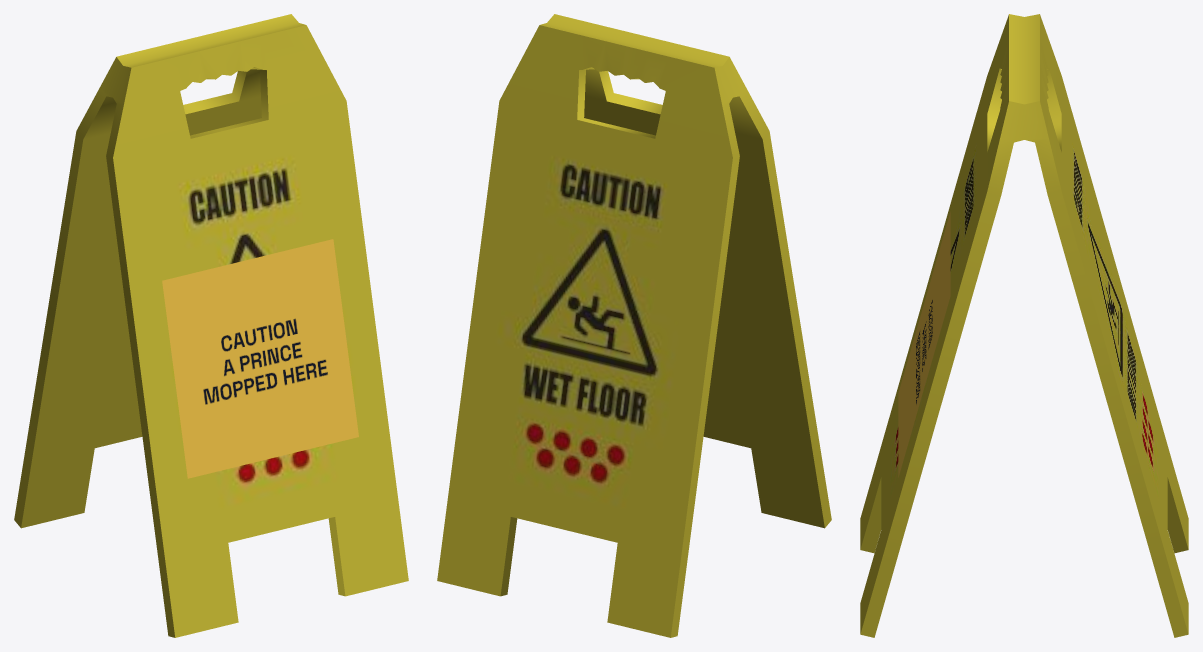
File: nyb_mcmlow_wetfloor.glb
3 views of the same model, side by side, from view 1: azimuth 30°, elevation 25°; view 2: azimuth 150°, elevation 25°; view 3: azimuth 270°, elevation 25° (orthographic).
Visible parts, largest first — view 1: WetFloorSign_01, stk_lbl_1402e0f69c.png; view 2: WetFloorSign_01; view 3: WetFloorSign_01, stk_lbl_1402e0f69c.png.
Part boxes in pixels (box(x1,y1,x2,y2)): WetFloorSign_01: box(14, 14, 408, 637); stk_lbl_1402e0f69c.png: box(162, 239, 358, 478); WetFloorSign_01: box(437, 14, 831, 637); WetFloorSign_01: box(860, 14, 1188, 637); stk_lbl_1402e0f69c.png: box(898, 211, 950, 477).
Size of the model in its own units: 0.3001 by 0.6295 by 0.3585.
Materials: 2 (2 with a texture image).
